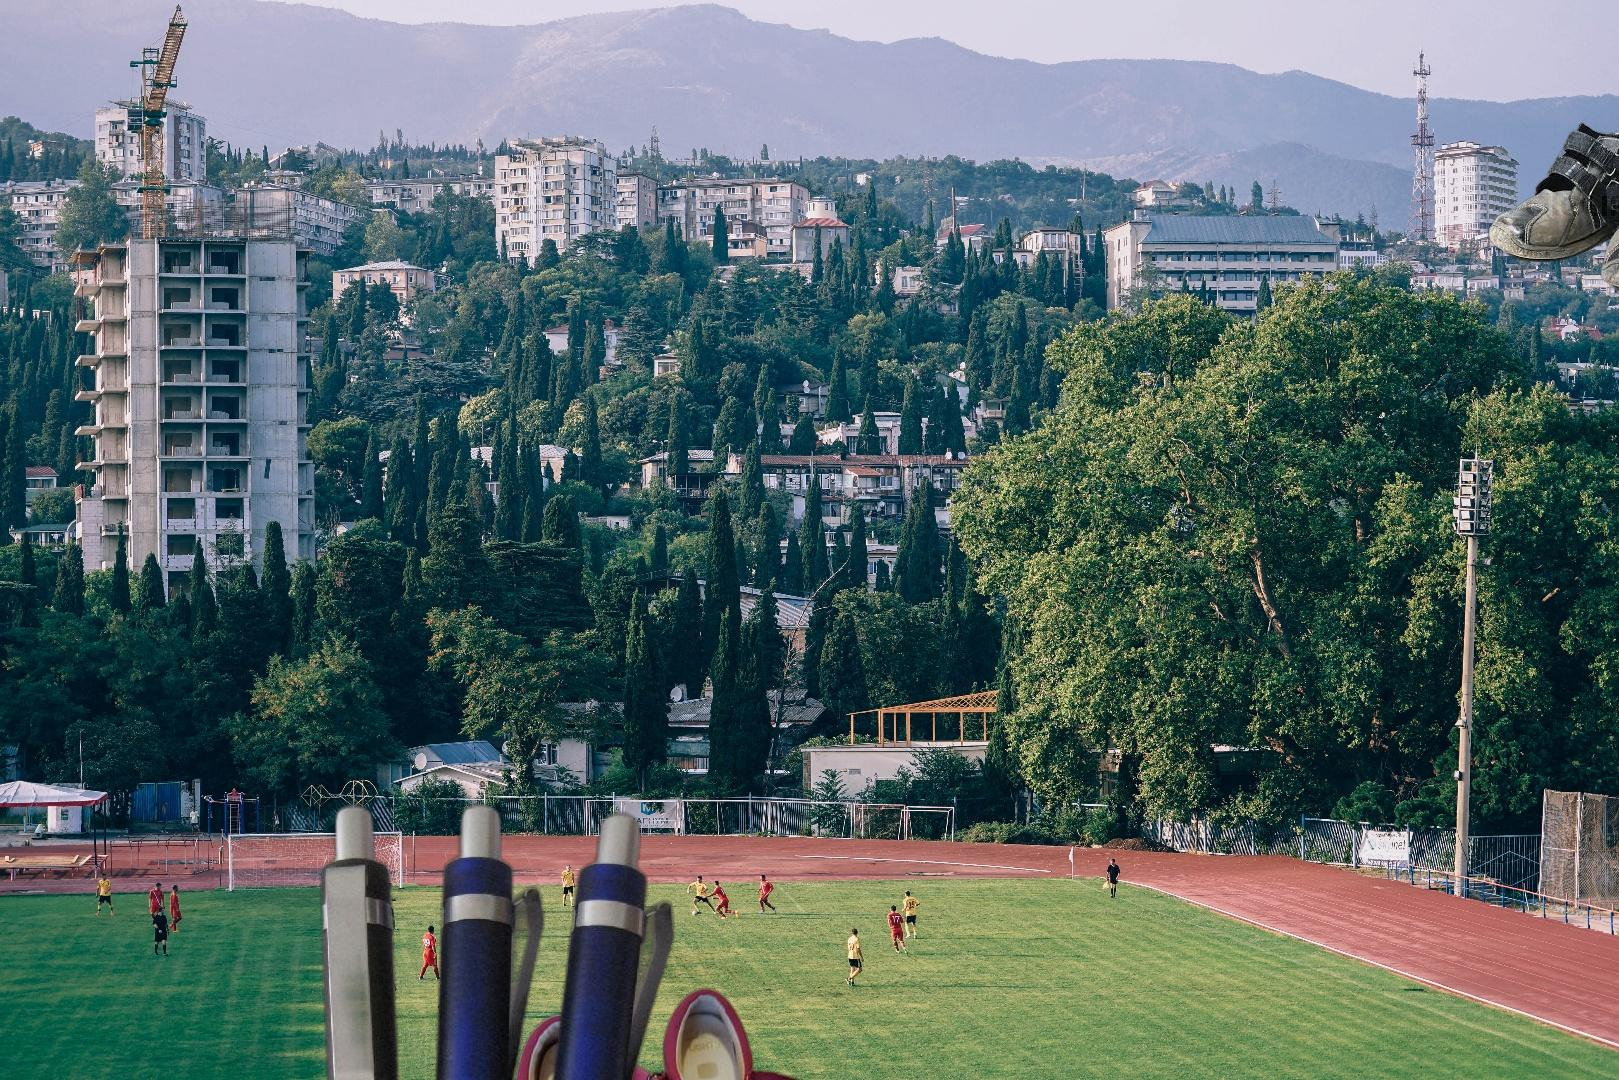penholder: (313, 796, 681, 1080)
shoes: (501, 984, 821, 1080), (1486, 118, 1619, 301)
